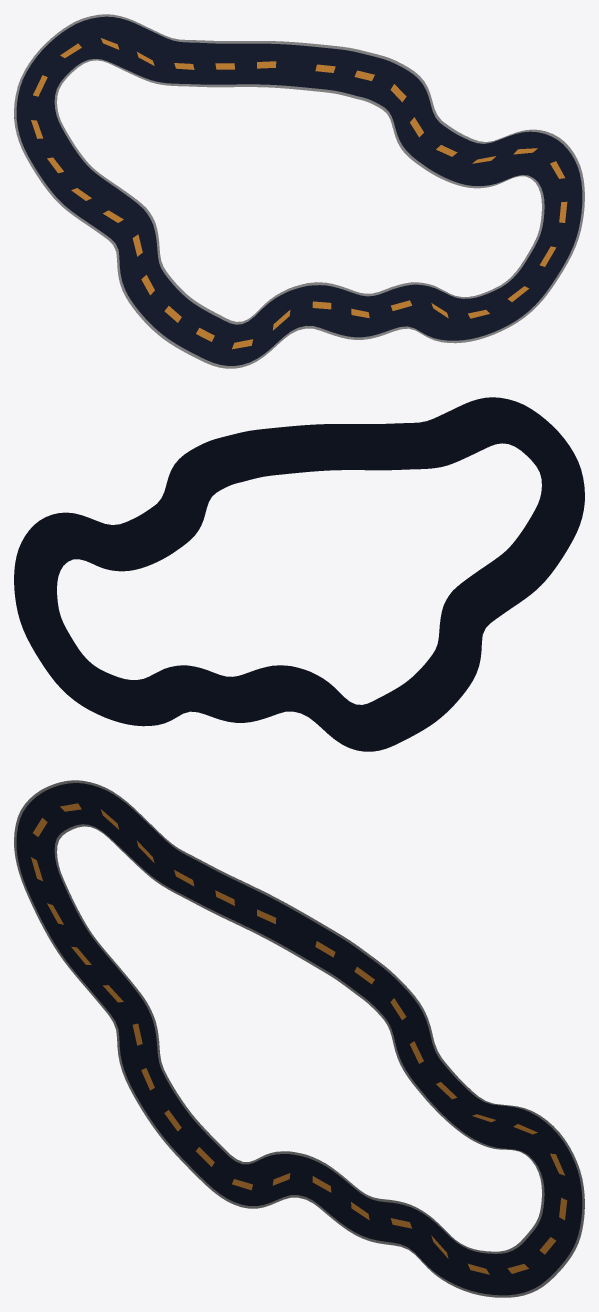
Rendered from track.obj.
3 renders of one model, top to bottom at view 1: azimuth 30°, elevation 25°; view 2: azimuth 150°, elevation 25°; view 3: azimuth 330°, elevation 25°, orthographic.
Bounding box in the file's own units: 8.76 × 6.13 × 0.002.
